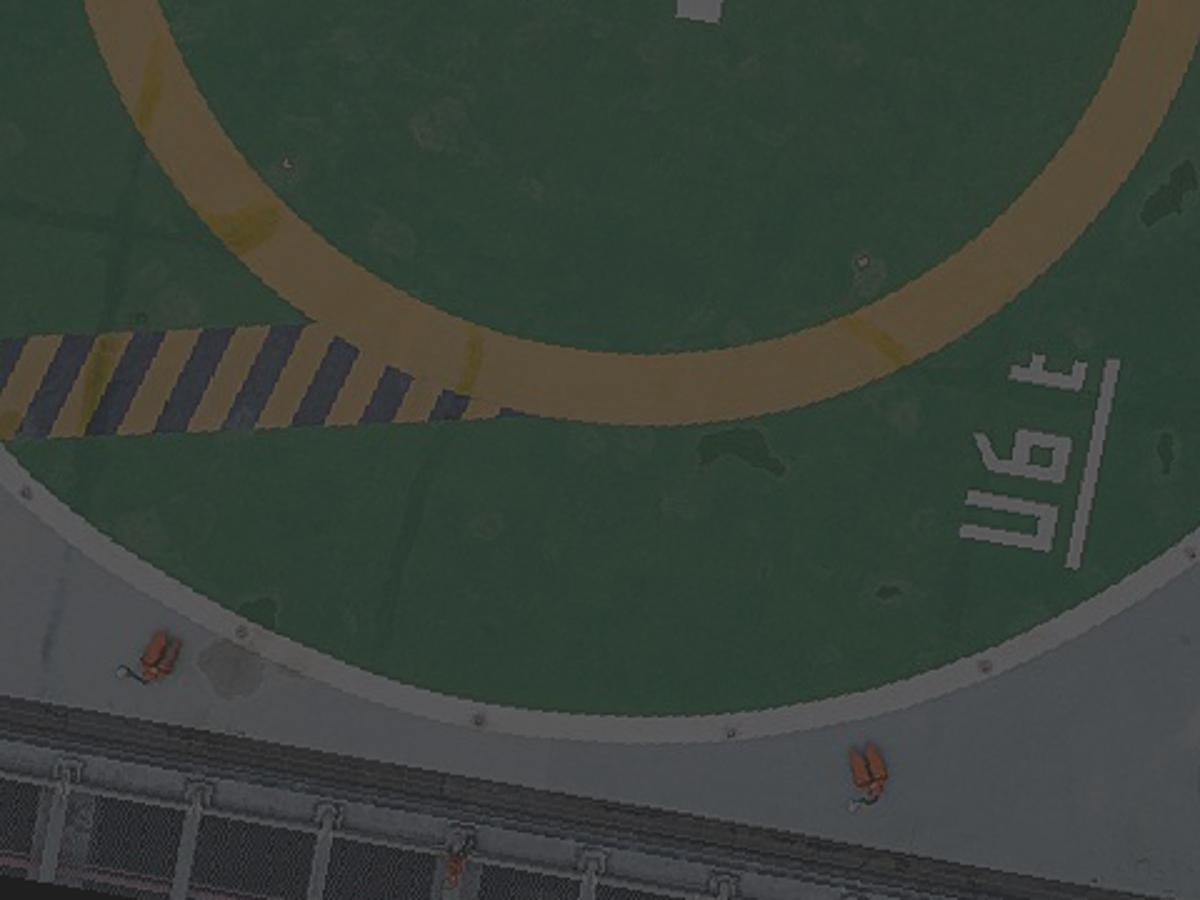Apron: (94, 1, 902, 393)
